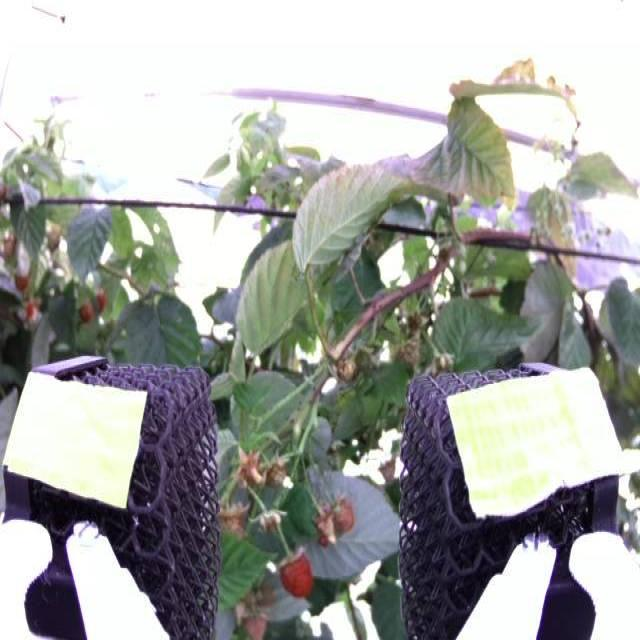Riped berries: (273, 550, 316, 596)
